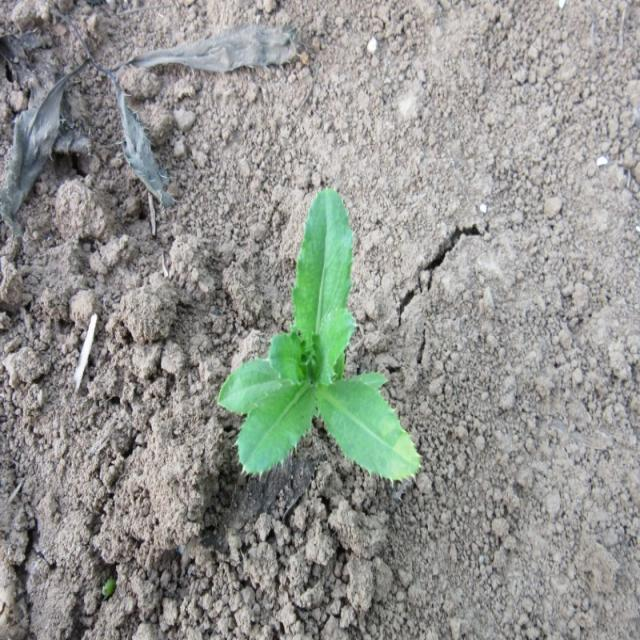cs: (215, 187, 422, 487)
